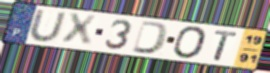3: (103, 19, 133, 51)
D: (130, 19, 172, 56)
O: (172, 25, 209, 60)
T: (212, 29, 240, 62)
U: (28, 9, 68, 44)
X: (60, 12, 99, 48)
